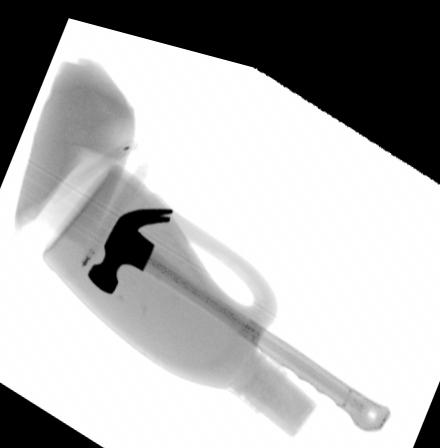Hammer: (86, 197, 391, 413)
